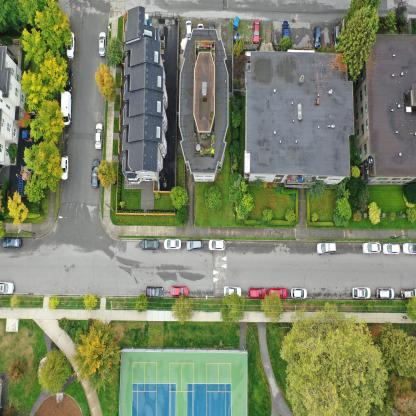Coniferous Tree: (76, 318, 125, 380), (336, 10, 378, 79), (381, 329, 416, 381), (37, 349, 73, 396), (7, 356, 29, 384), (172, 299, 194, 323), (135, 294, 148, 312), (0, 220, 5, 238)
Deciduous Tree: (284, 312, 386, 416), (23, 0, 70, 59), (24, 59, 67, 100), (33, 100, 62, 144), (26, 144, 58, 182), (95, 63, 118, 104), (9, 196, 30, 224), (97, 160, 115, 191), (25, 180, 44, 202), (108, 37, 123, 63), (370, 202, 379, 227)
